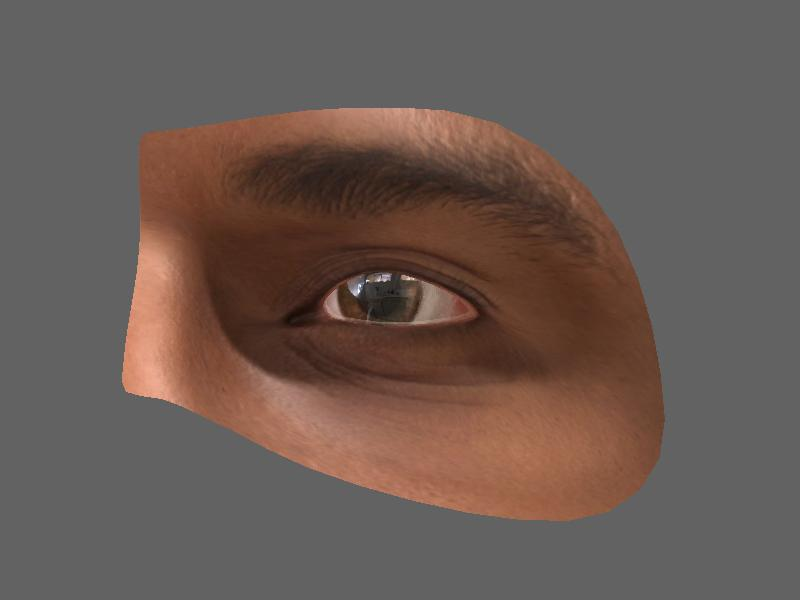iris: (330, 269, 427, 325)
